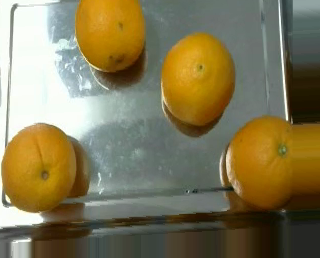Orange: (160, 32, 236, 126), (1, 122, 77, 213), (75, 1, 146, 73)
